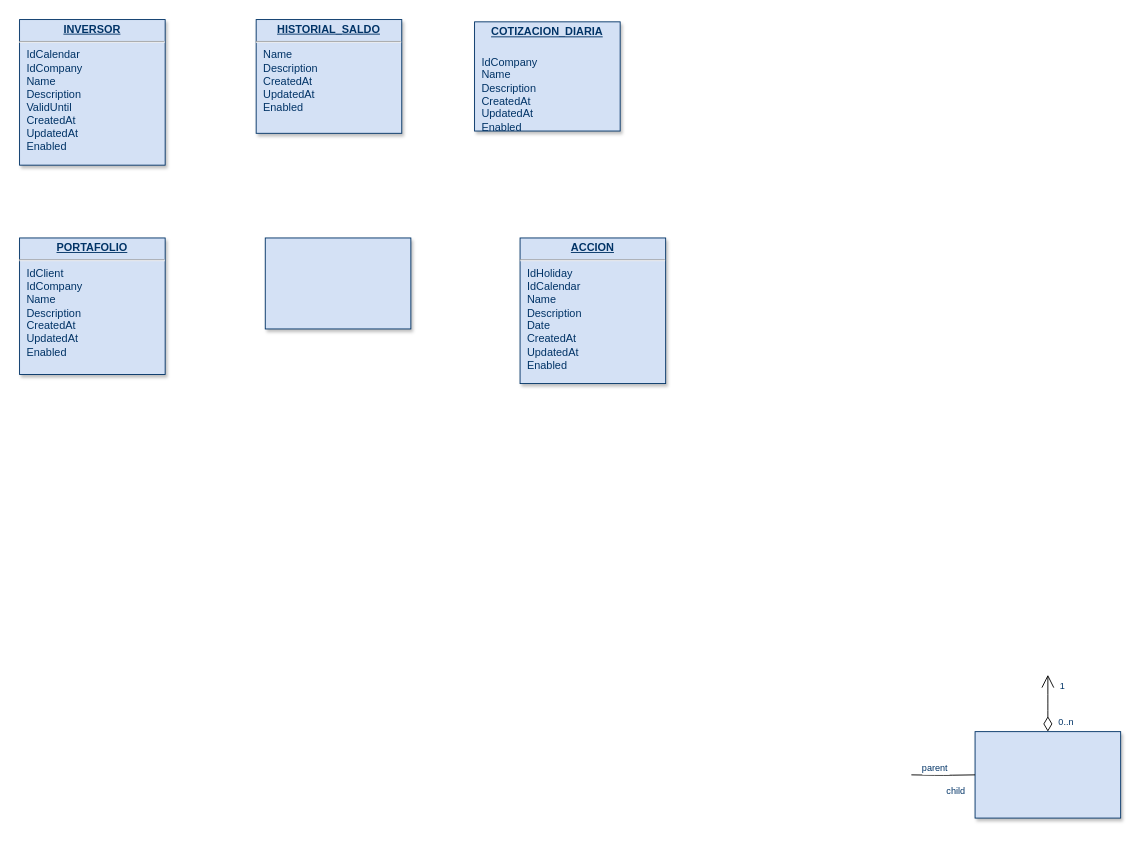
This 1142x841 diagram has some shape labels left out. The centre of each missing label's shape, as x and y in pixels:
"TimeSheetCostCenter IdTimeSheetCostCenter IdTimeSheet IdCostCenter" belongs at point 1048,775.
"TRANSACCION IdUserProjectRole IdRole IdProject IdUser" belongs at point 338,284.
